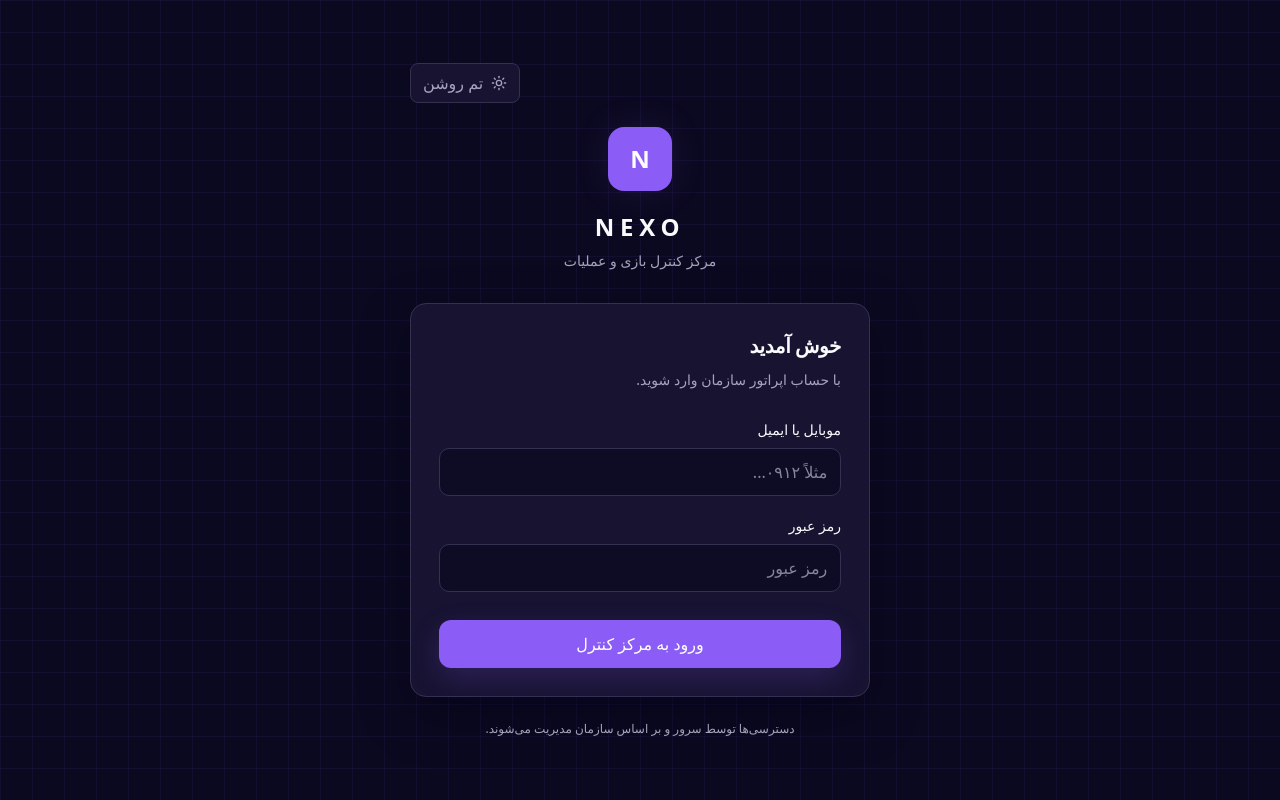
Test: login form › shows validation messages for empty credentials
Click the button "ورود به مرکز کنترل" at x=640, y=644, box [439,620,841,668]
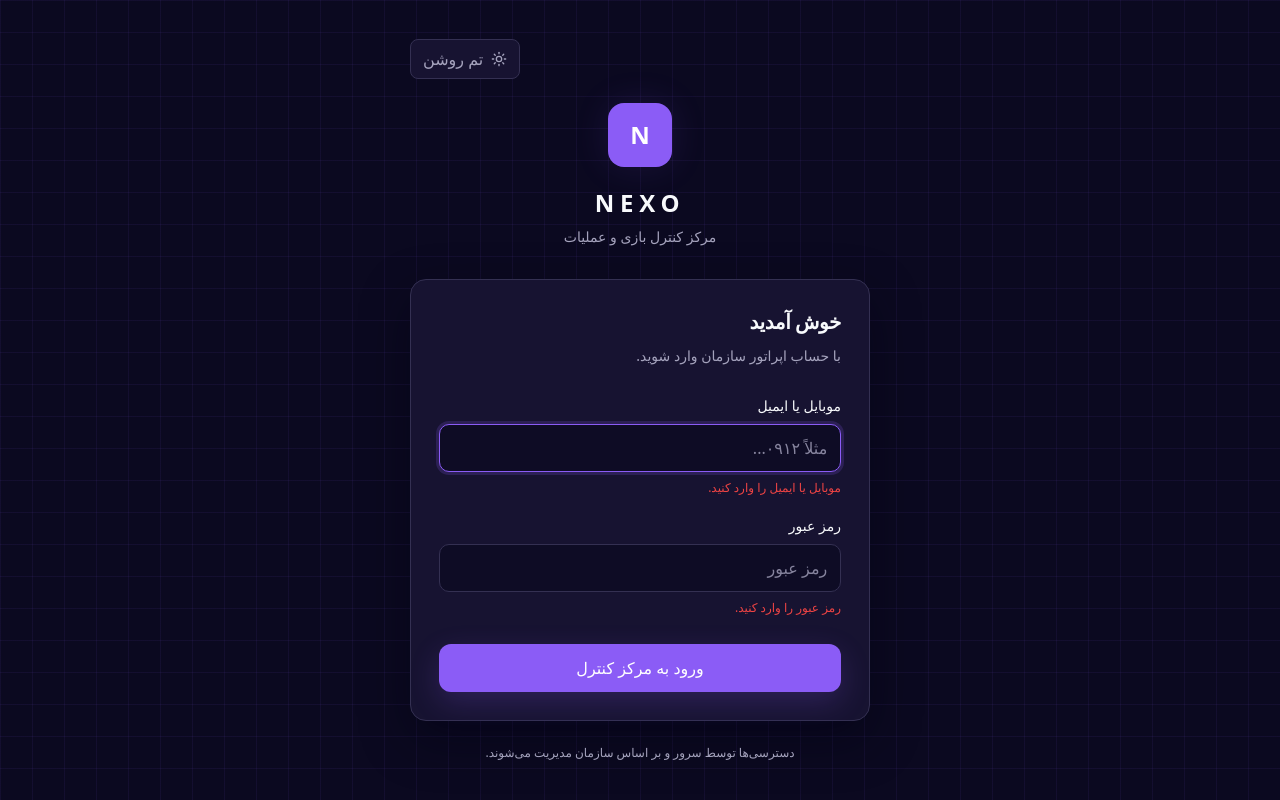
Now the text "موبایل یا ایمیل را وارد کنید." is shown, box [708,479,841,496]
Now the text "رمز عبور را وارد کنید." is shown, box [735,599,841,616]
